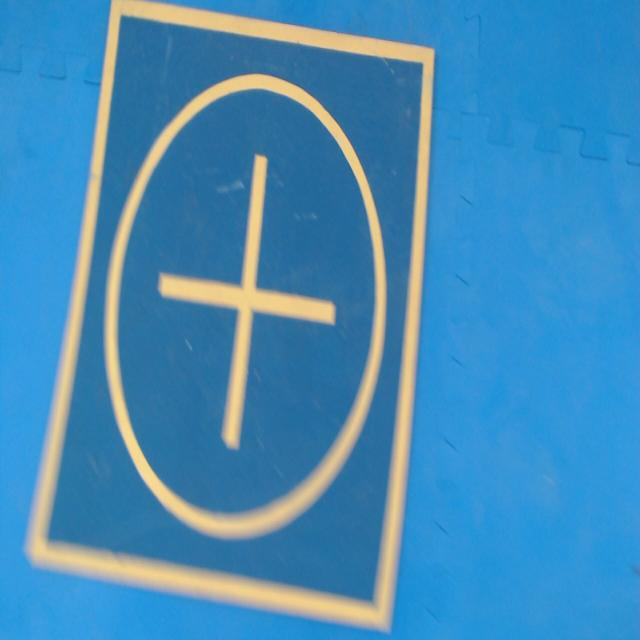base_pouso: (24, 0, 437, 630)
